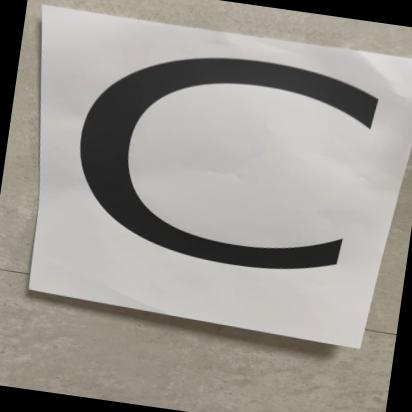seat: (31, 21, 412, 343)
